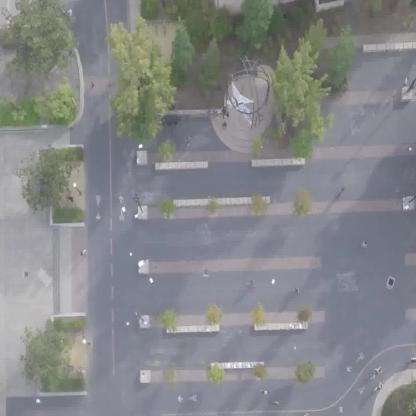Bicyclist: (368, 365, 390, 383), (257, 386, 272, 402), (186, 392, 202, 406), (376, 378, 388, 396), (272, 396, 285, 412), (245, 275, 258, 291), (337, 184, 348, 199), (404, 355, 414, 369)
Pedestrian: (88, 76, 99, 98), (185, 135, 198, 153), (290, 284, 304, 300), (78, 244, 90, 260), (360, 233, 370, 252), (401, 76, 409, 88), (204, 108, 211, 120), (219, 105, 226, 116), (220, 120, 226, 130)
